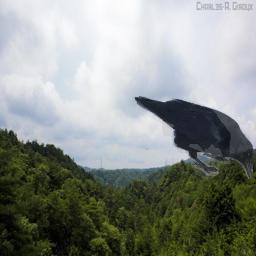Crow: (133, 96, 253, 179)
